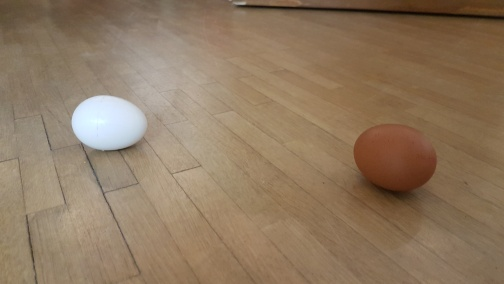egg: (351, 123, 439, 194), (69, 94, 150, 153)
